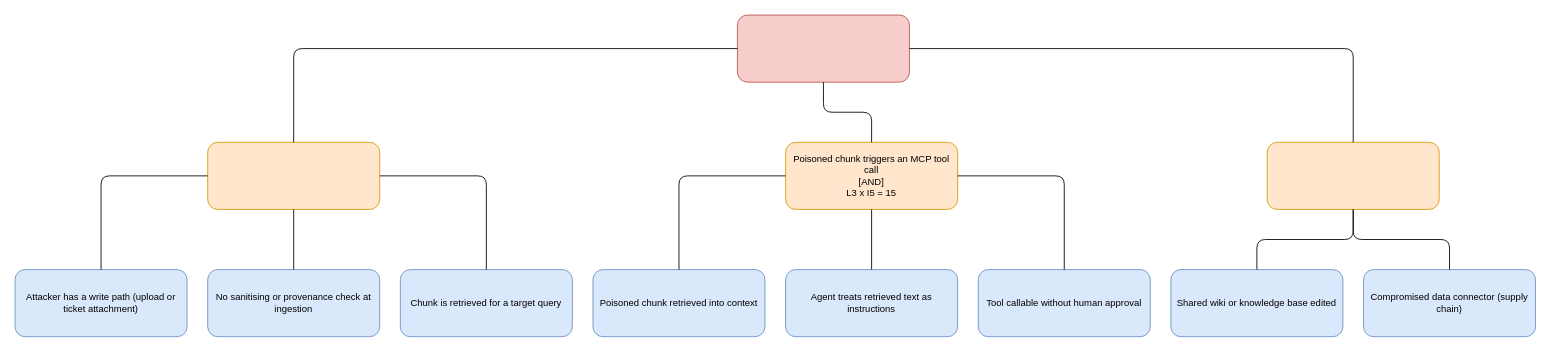
The diagram is 1551 pixels wide and 352 high, and some of its shapes have lost their labels. The box of each missing label's shape, as (x1, y1, x2, y2) in pixels:
GOAL: Poison RAG chunk to manipulate agent behaviour [OR] L4 x I4 = 16: (737, 14, 909, 82)
Insert malicious document through ingestion path [AND] L4 x I4 = 16: (207, 141, 380, 209)
Upstream knowledge source compromised [OR] L2 x I4 = 8: (1266, 141, 1439, 209)
